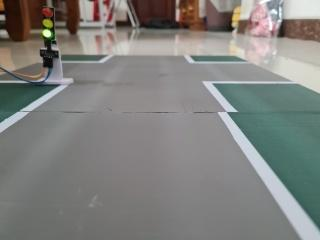green: (36, 3, 65, 57)
